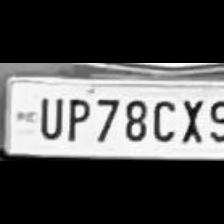7: (89, 92, 119, 144)
8: (118, 94, 148, 144)
C: (148, 94, 176, 144)
P: (62, 92, 90, 142)
U: (33, 92, 63, 140)
X: (176, 94, 204, 144)
